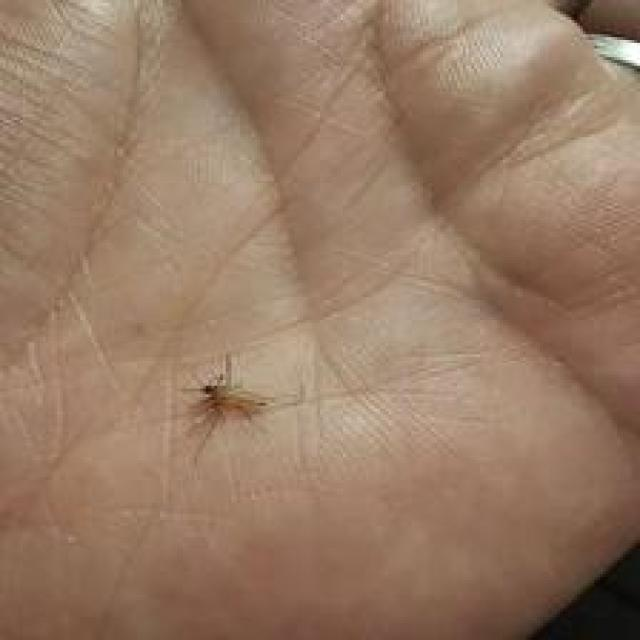Culex: (177, 351, 277, 463)
